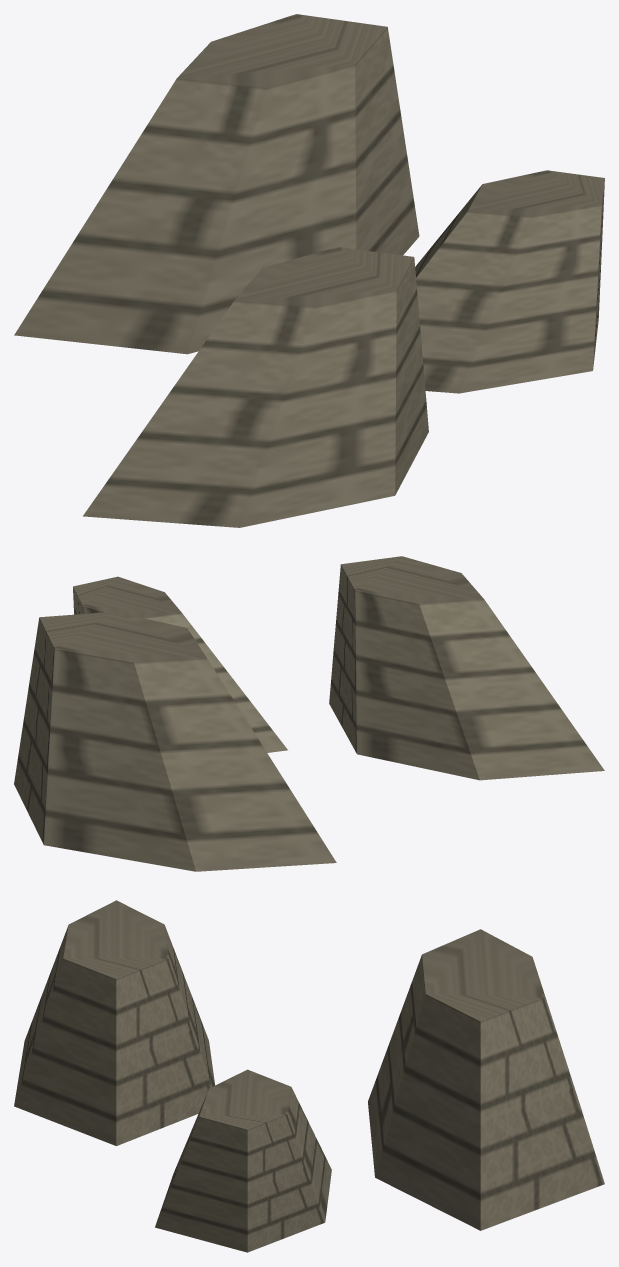
File: rock-talus-lod1.glb
3 views of the same model, one above another, from view 1: azimuth 30°, elevation 25°; view 2: azimuth 150°, elevation 25°; view 3: azimuth 270°, elevation 25° (orthographic). The views are drawn at different scales.
Bounding box in the file's own units: 0.4012 × 0.14 × 0.3838.
1 material, 1 textured.
